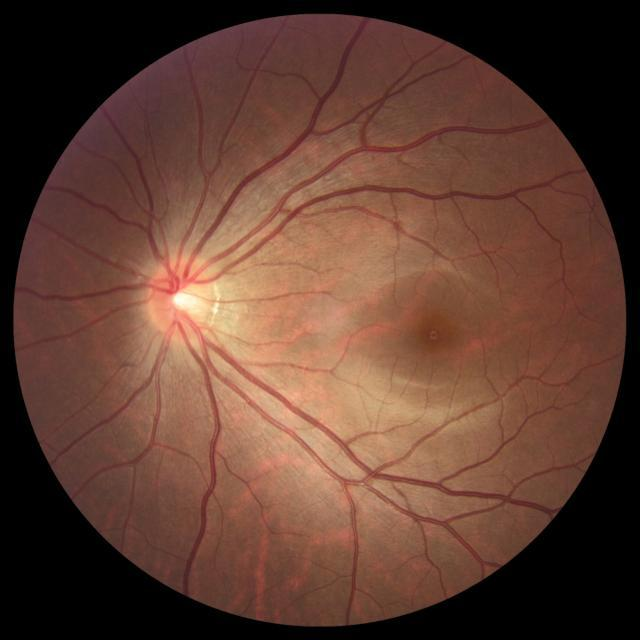OC: (172, 290, 197, 311)
OD: (145, 254, 218, 337)
